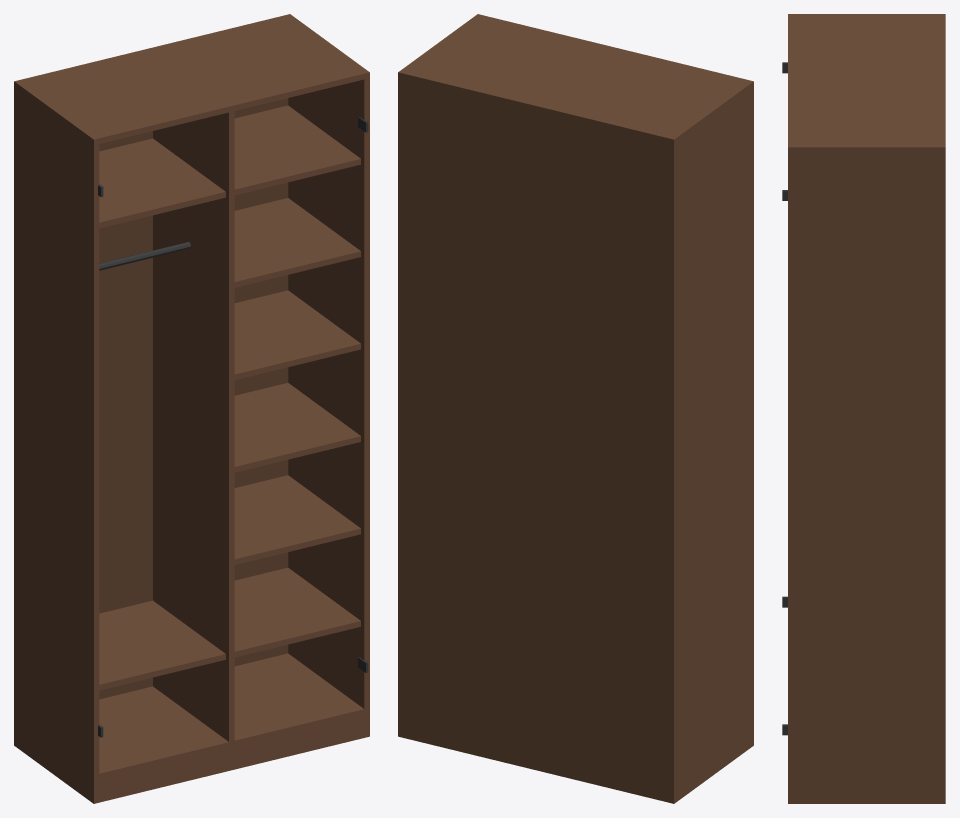
The model's file is Wardrobe4_C3.fbx.
The picture shows the model from 3 angles, left to right: view 1: azimuth 30°, elevation 25°; view 2: azimuth 150°, elevation 25°; view 3: azimuth 270°, elevation 25°; orthographic projection.
Parts seen in each view (by area): view 1: Wardrobe4_C3; view 2: Wardrobe4_C3; view 3: Wardrobe4_C3.
Boxes of the visible parts, left/top/right/bottom form: Wardrobe4_C3: left=14, top=14, right=369, bottom=803; Wardrobe4_C3: left=398, top=14, right=753, bottom=803; Wardrobe4_C3: left=782, top=14, right=945, bottom=803.
Bounding box in the file's own units: 100 × 230 × 51.79.
